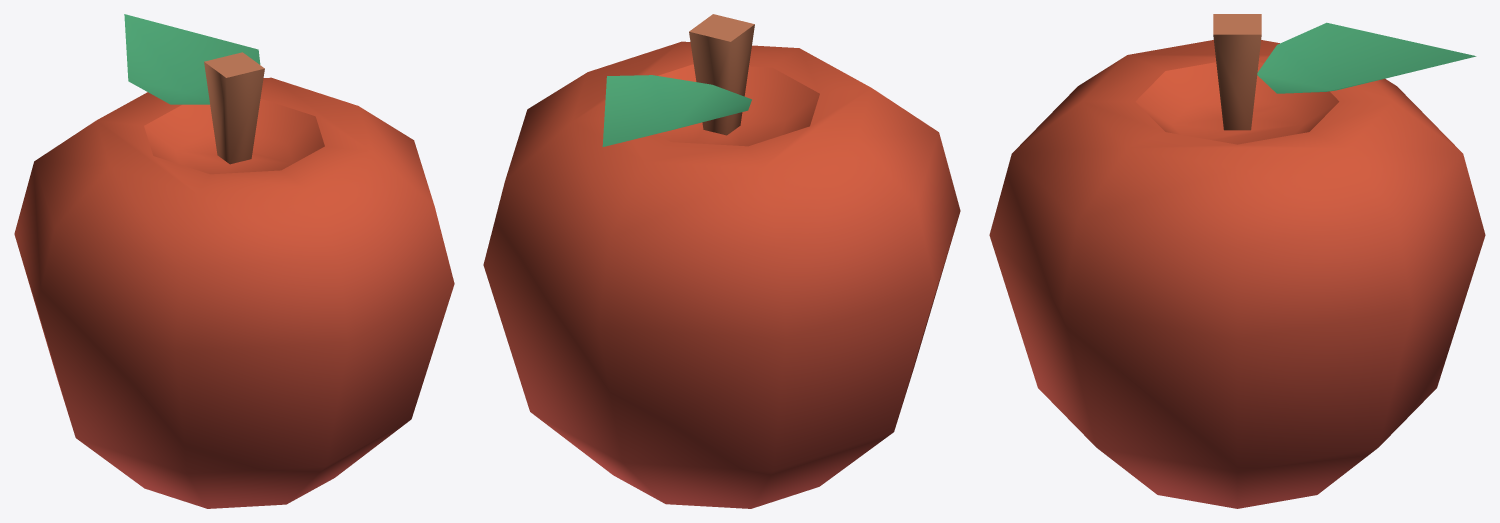
The model's file is apple.glb.
3 views of the same model, side by side, from view 1: azimuth 30°, elevation 25°; view 2: azimuth 150°, elevation 25°; view 3: azimuth 270°, elevation 25° (orthographic). The views are drawn at different scales.
Parts seen in each view (by area): view 1: apple-2; view 2: apple-2; view 3: apple-2.
Boxes of the visible parts, left/top/right/bottom form: apple-2: left=14, top=14, right=454, bottom=508; apple-2: left=483, top=14, right=960, bottom=508; apple-2: left=989, top=14, right=1485, bottom=508.
Size of the model in its own units: 0.1963 by 0.1908 by 0.1963.
